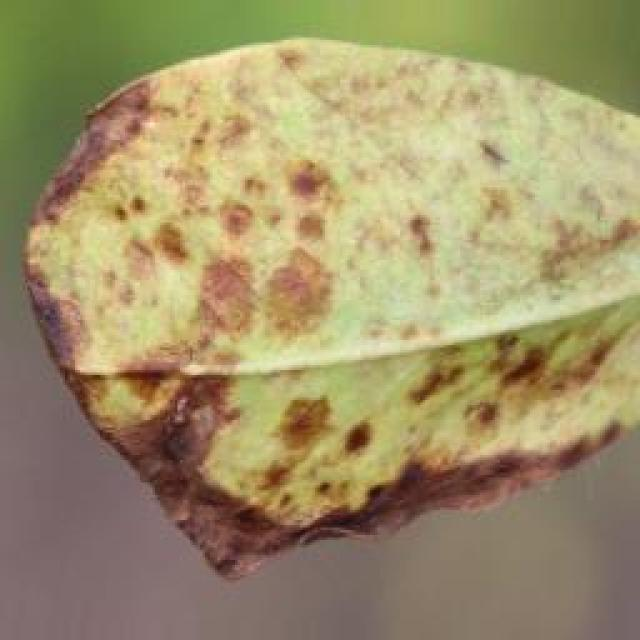Whitefly: (6, 46, 640, 578)
